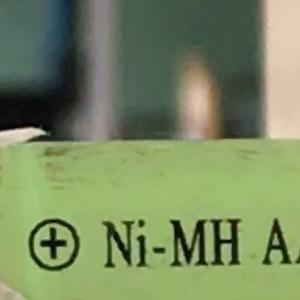NI-MH: (92, 209, 243, 278)
